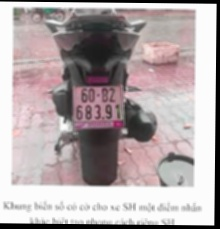Bien-so: (77, 85, 127, 123)
